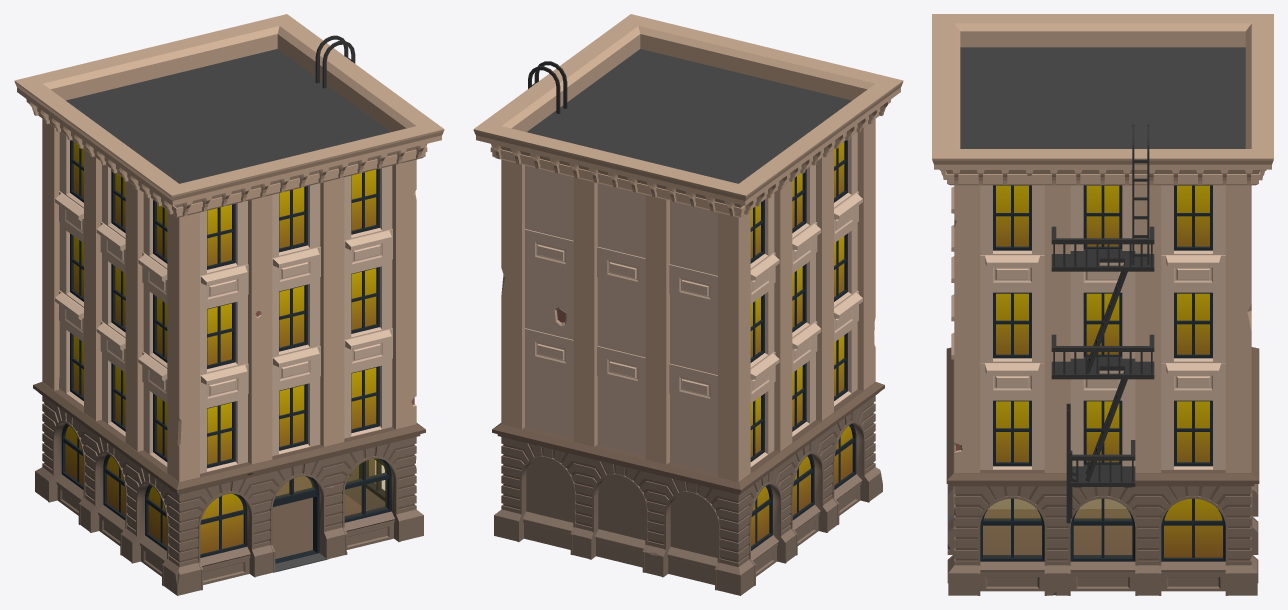
Rendered from SM_Buildings_Office_11.fbx.
The picture shows the model from 3 angles, left to right: view 1: azimuth 30°, elevation 25°; view 2: azimuth 150°, elevation 25°; view 3: azimuth 270°, elevation 25°; orthographic projection. The views are drawn at different scales.
Parts seen in each view (by area): view 1: SM_Buildings_Office_11; view 2: SM_Buildings_Office_11; view 3: SM_Buildings_Office_11.
Part boxes in pixels (box(x1,y1,x2,y2)): SM_Buildings_Office_11: box(14, 14, 444, 595); SM_Buildings_Office_11: box(473, 14, 903, 595); SM_Buildings_Office_11: box(932, 14, 1273, 595).
Size of the model in its own units: 11.81 by 17.42 by 11.5.
